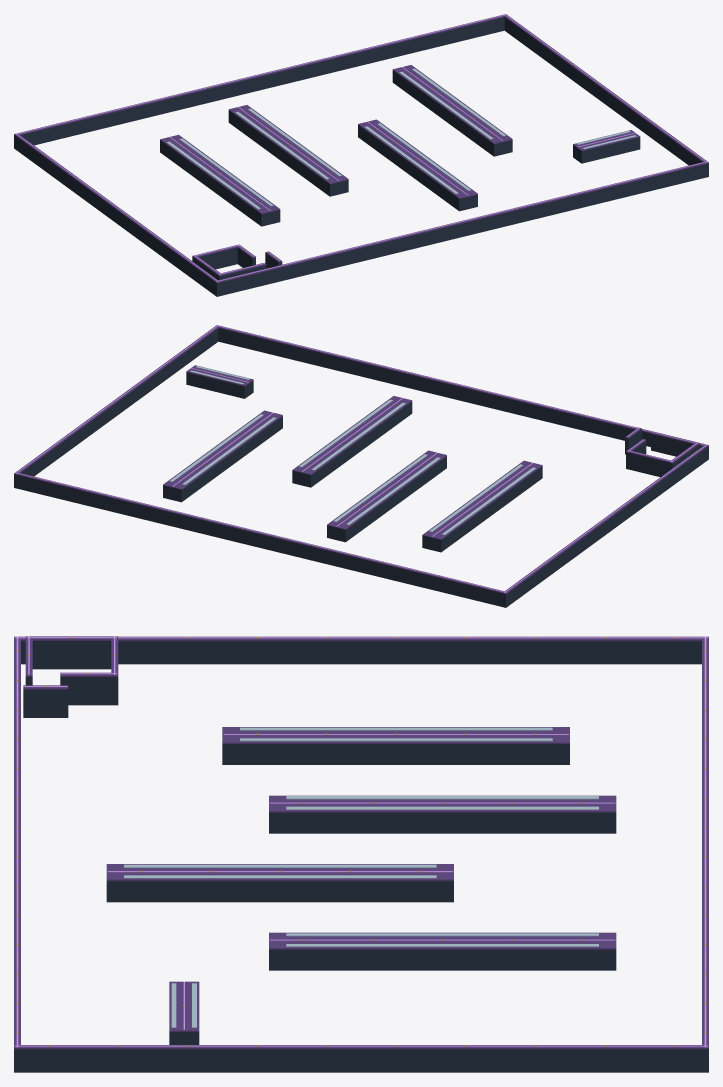
File: campaign_storm_center.runtime.gltf
The picture shows the model from 3 angles, top to bottom: view 1: azimuth 30°, elevation 25°; view 2: azimuth 150°, elevation 25°; view 3: azimuth 270°, elevation 25°; orthographic projection. The views are drawn at different scales.
Visible parts, largest first — view 1: BATCH material 0, BATCH material 1, BATCH material 2, BATCH material 3; view 2: BATCH material 0, BATCH material 1, BATCH material 2, BATCH material 3; view 3: BATCH material 0, BATCH material 1, BATCH material 2, BATCH material 3.
Boxes of the visible parts, box(x1,y1,x2,y2) form: BATCH material 0: box(14, 17, 708, 296); BATCH material 1: box(14, 14, 708, 283); BATCH material 2: box(167, 68, 636, 209); BATCH material 3: box(15, 14, 707, 281); BATCH material 0: box(14, 328, 708, 607); BATCH material 1: box(14, 325, 708, 594); BATCH material 2: box(169, 366, 535, 535); BATCH material 3: box(15, 325, 707, 592); BATCH material 0: box(14, 641, 708, 1072); BATCH material 1: box(14, 636, 708, 1049); BATCH material 2: box(124, 727, 598, 1027); BATCH material 3: box(15, 636, 707, 1047).
Bounding box in the file's own units: 42 × 1.45 × 30.
